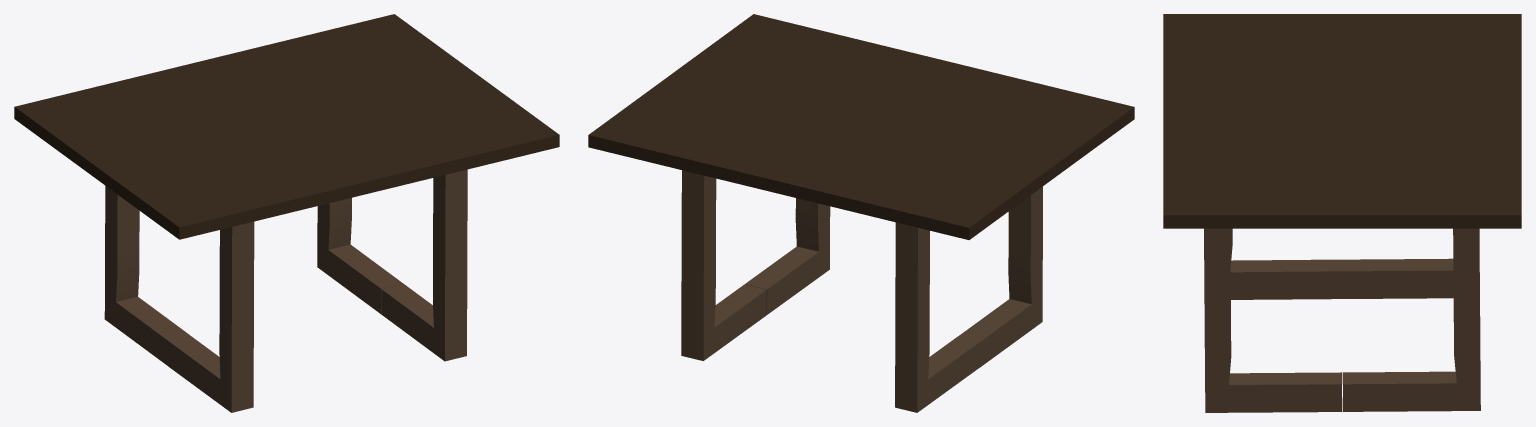
File: Table.fbx
The picture shows the model from 3 angles, left to right: view 1: azimuth 30°, elevation 25°; view 2: azimuth 150°, elevation 25°; view 3: azimuth 270°, elevation 25°; orthographic projection. The views are drawn at different scales.
Visible parts, largest first — view 1: Cube, Cube_4, Cube_3, Cube_1, Cube_2; view 2: Cube, Cube_2, Cube_1, Cube_3, Cube_4; view 3: Cube, Cube_4, Cube_2, Cube_3, Cube_1.
Part boxes in pixels (x1,y1,x2,y2): Cube: (14,14,559,239); Cube_4: (381,169,467,361); Cube_3: (168,221,254,412); Cube_1: (104,186,189,365); Cube_2: (317,197,403,313); Cube: (588,14,1134,239); Cube_2: (681,170,766,360); Cube_1: (895,222,979,412); Cube_3: (958,186,1042,367); Cube_4: (745,198,830,314); Cube: (1163,14,1521,228); Cube_4: (1204,228,1342,412); Cube_2: (1342,228,1480,411); Cube_3: (1230,228,1343,299); Cube_1: (1342,234,1453,298).
Size of the model in its own units: 266 by 146 by 200.
